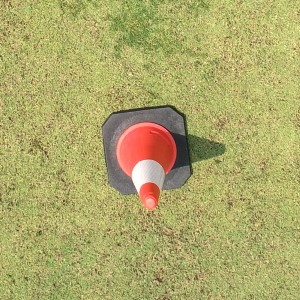traffic cone: (101, 104, 191, 208)
